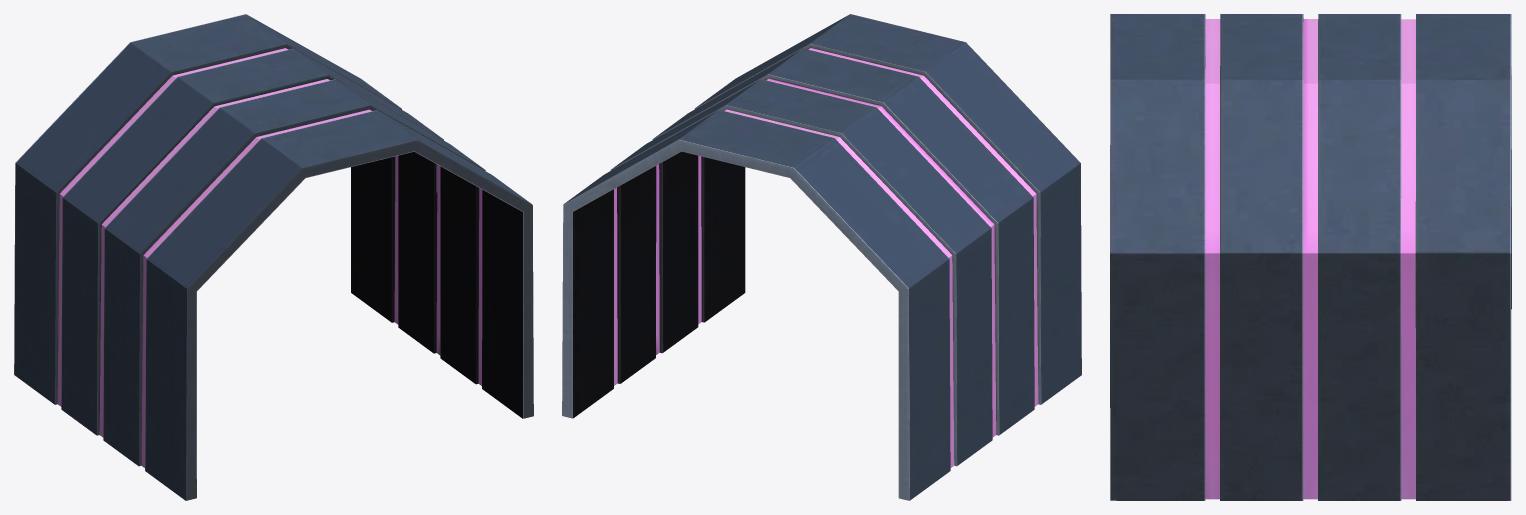
The model's file is entrance-door01-art.glb.
The picture shows the model from 3 angles, left to right: view 1: azimuth 30°, elevation 25°; view 2: azimuth 150°, elevation 25°; view 3: azimuth 270°, elevation 25°; orthographic projection. The views are drawn at different scales.
Parts seen in each view (by area): view 1: EntranceDoor01_Art; view 2: EntranceDoor01_Art; view 3: EntranceDoor01_Art.
Part boxes in pixels (x1,y1,x2,y2): EntranceDoor01_Art: (14, 14, 533, 500); EntranceDoor01_Art: (562, 14, 1081, 500); EntranceDoor01_Art: (1110, 14, 1511, 500).
Bounding box in the file's own units: 5.71 × 4.77 × 4.9.
Materials: 1 (1 with a texture image).
